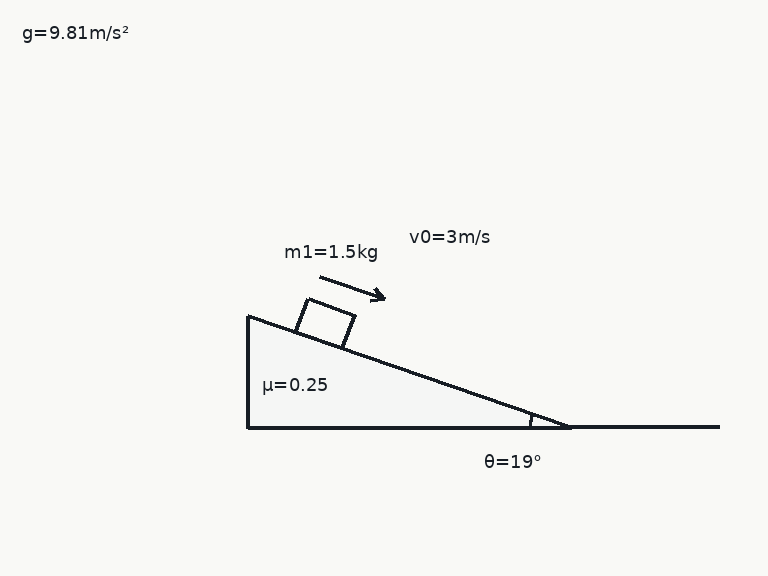block: (294, 297, 355, 350)
ramp: (246, 314, 572, 429)
